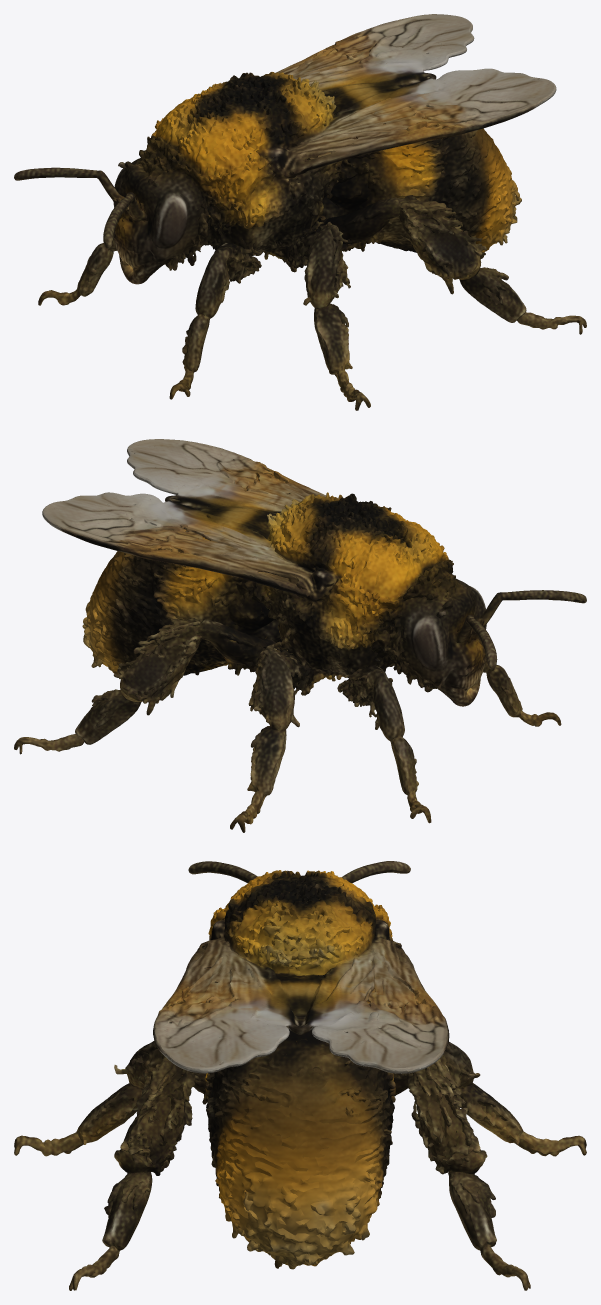
File: task-4891902.glb
3 views of the same model, one above another, from view 1: azimuth 30°, elevation 25°; view 2: azimuth 150°, elevation 25°; view 3: azimuth 270°, elevation 25° (orthographic). The views are drawn at different scales.
Parts seen in each view (by area): view 1: world; view 2: world; view 3: world.
Part boxes in pixels (x1,y1,x2,y2): world: (14, 14, 586, 410); world: (14, 439, 586, 832); world: (14, 861, 586, 1290).
Size of the model in its own units: 0.02 by 0.0099 by 0.0187.
Materials: 1 (1 with a texture image).
